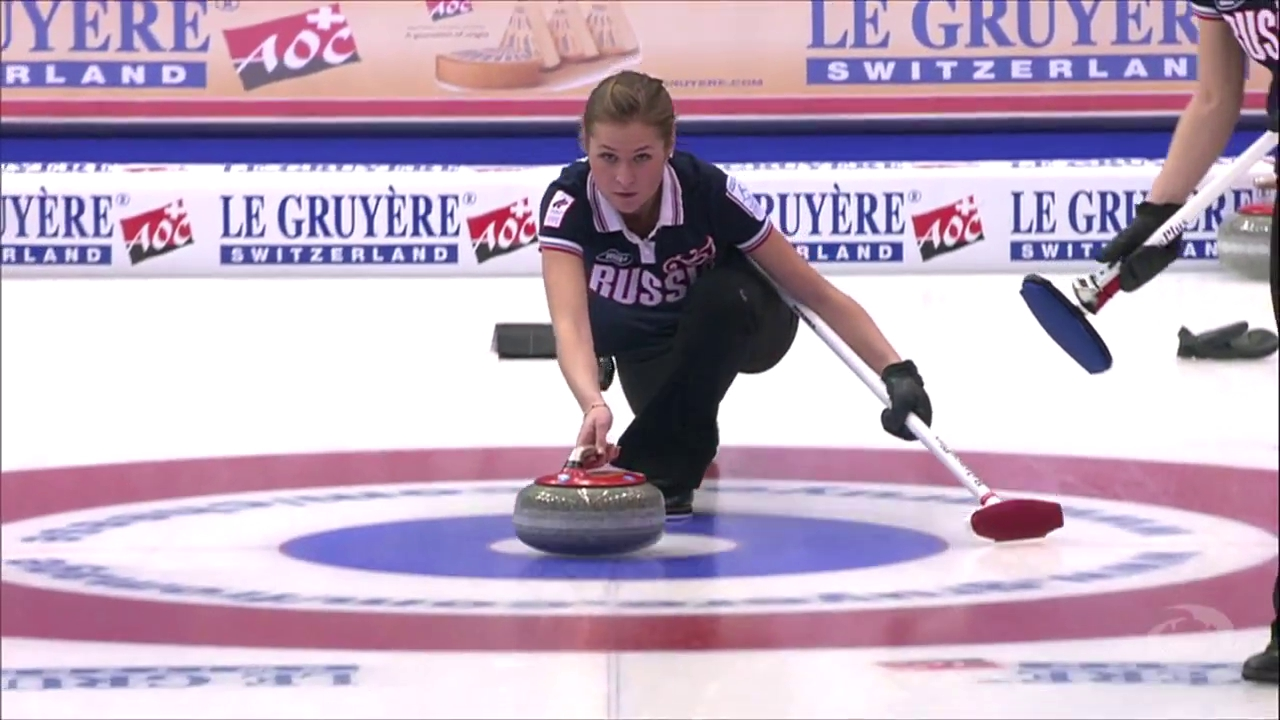person: (537, 71, 933, 521)
